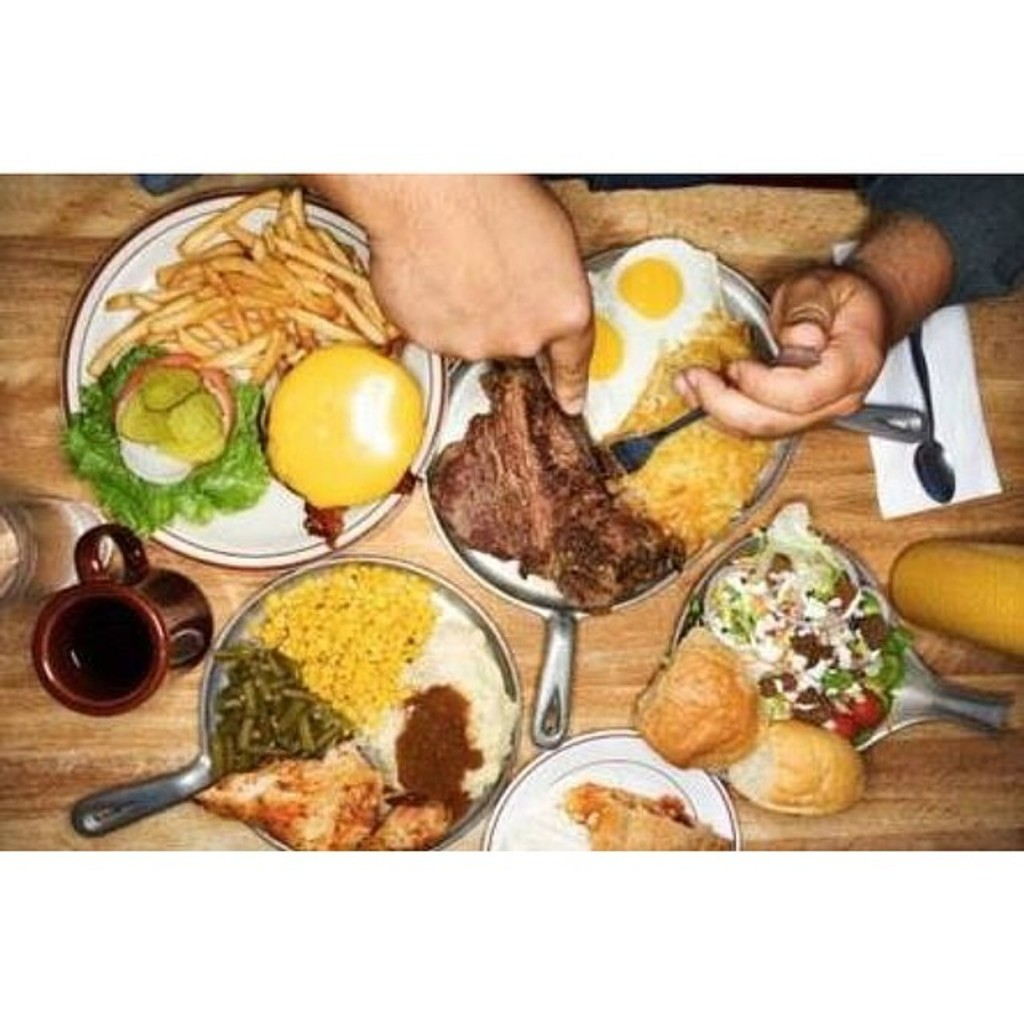French fries: (81, 164, 422, 396)
